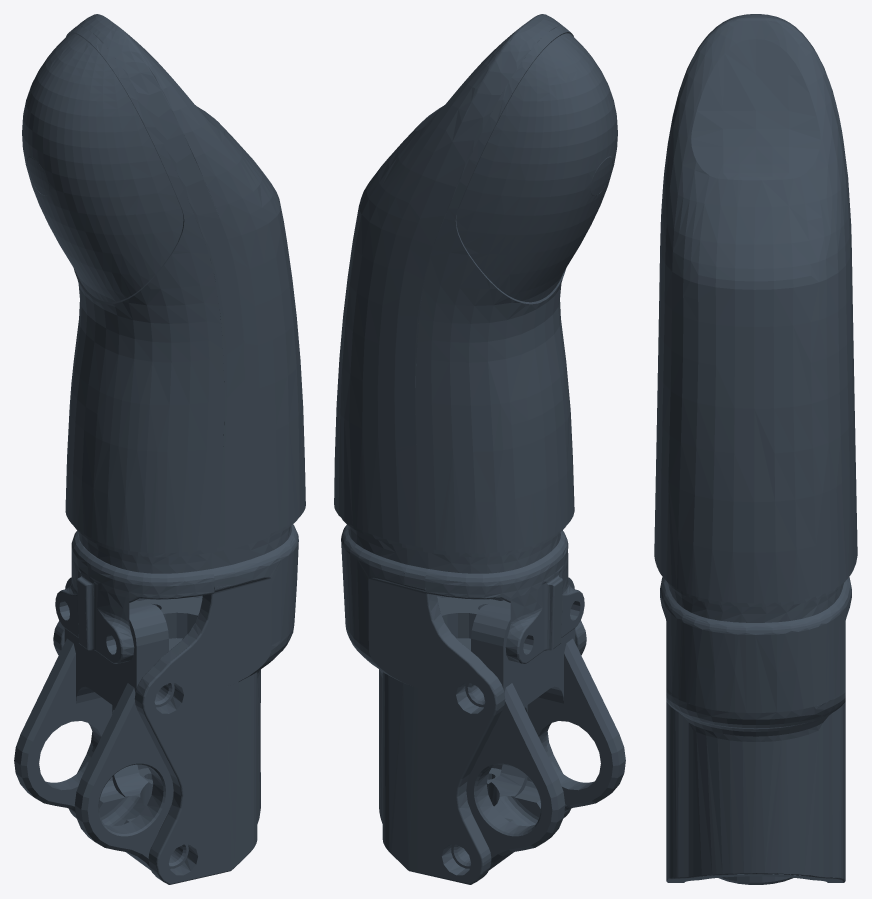
Rendered from t_mcp_link.glb.
3 views of the same model, side by side, from view 1: azimuth 30°, elevation 25°; view 2: azimuth 150°, elevation 25°; view 3: azimuth 270°, elevation 25° (orthographic).
Visible parts, largest first — view 1: t_mcp; view 2: t_mcp; view 3: t_mcp.
Part boxes in pixels (x1,y1,x2,y2): t_mcp: [14, 14, 305, 884]; t_mcp: [334, 14, 625, 884]; t_mcp: [654, 14, 857, 884].
Bounding box in the file's own units: 0.0318 × 0.099 × 0.022.
